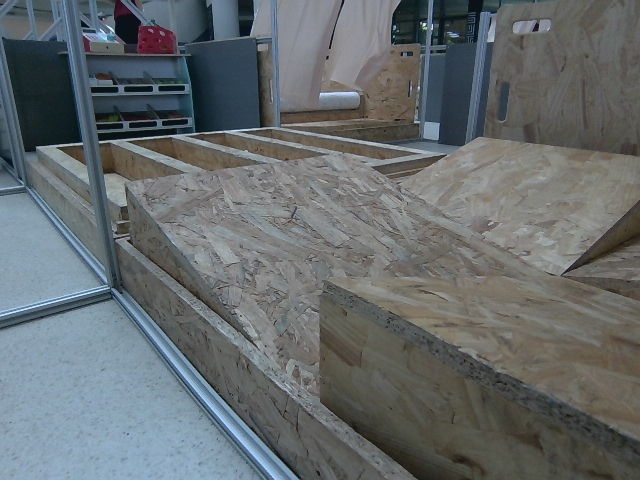curtain: (320, 0, 416, 58)
